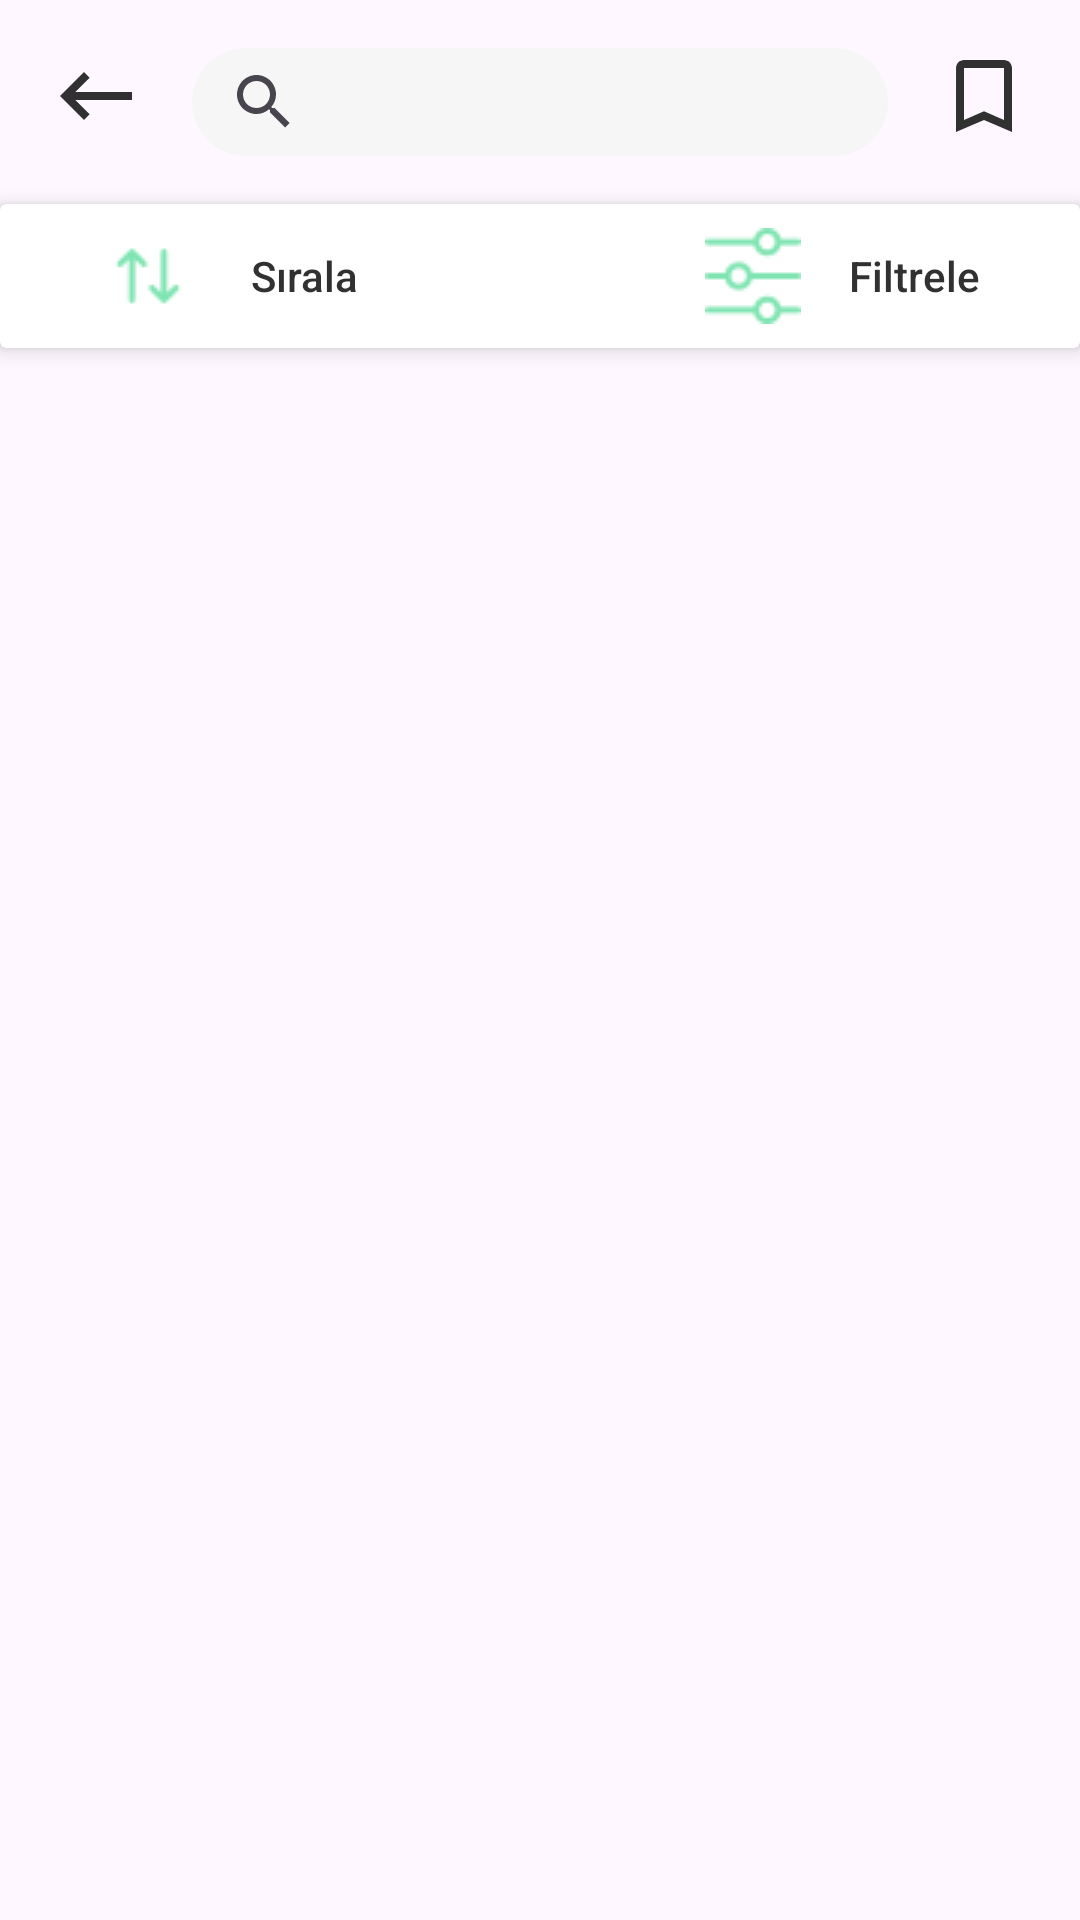

Icon click points for this 1080x1920 phone screenshot, format [x,y]:
back: [96,96]
bookmark: [984,96]
